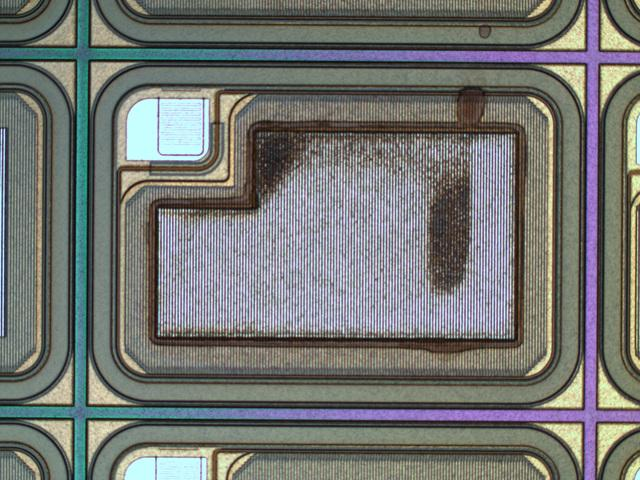SEZ BURNT: (150, 21, 526, 357)
